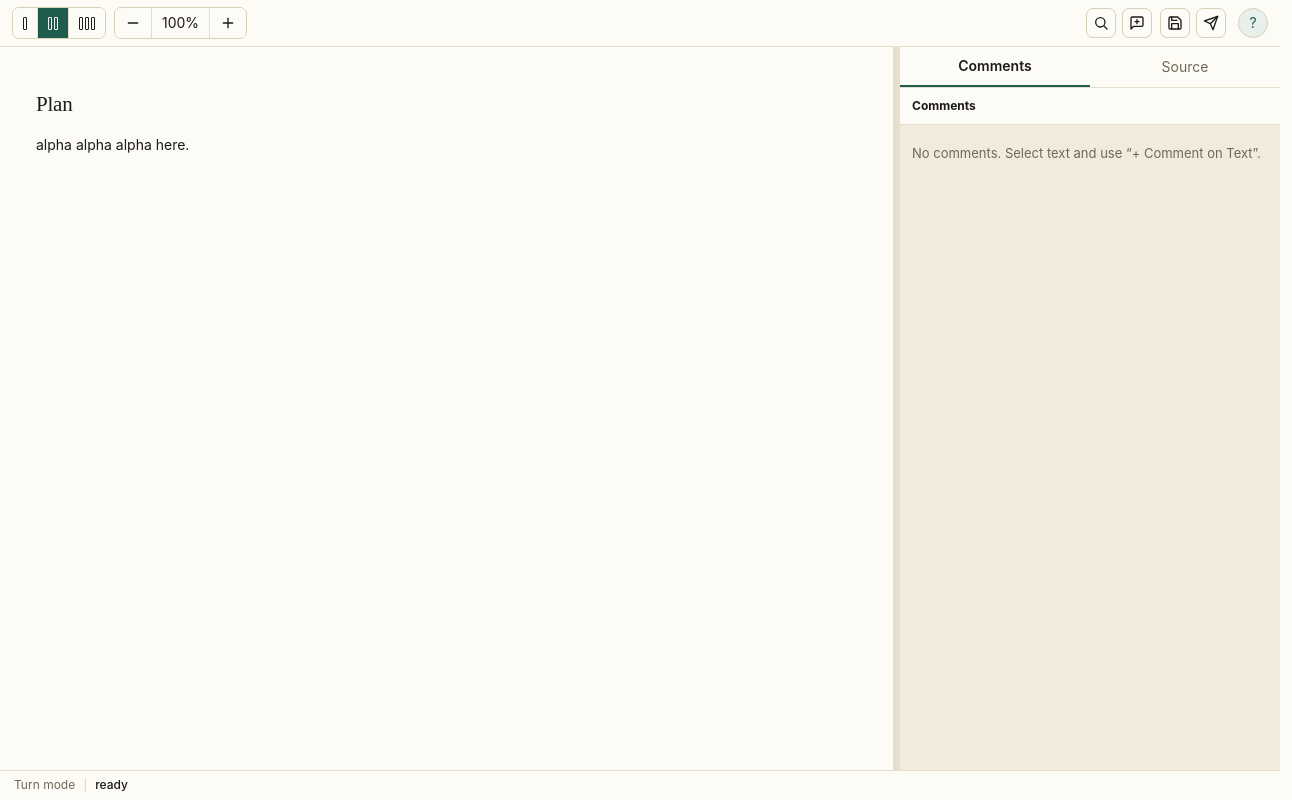
Test: find & replace bar › replace-next advances and rewrites a single match
This screenshot has width=1292, height=800.
Press f
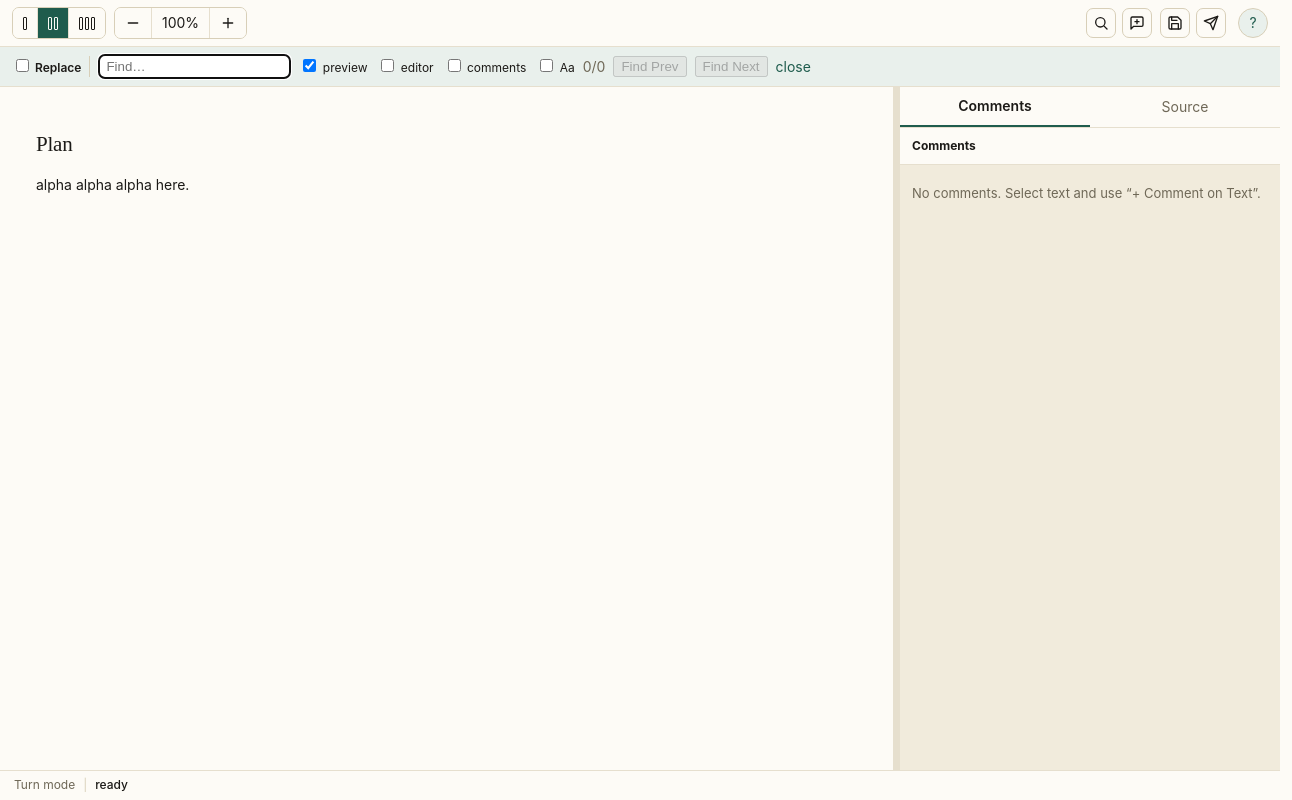
Type "alpha" into the field with placeholder "Find…".
click(195, 66); type("alpha")  # box [98,54,291,79]
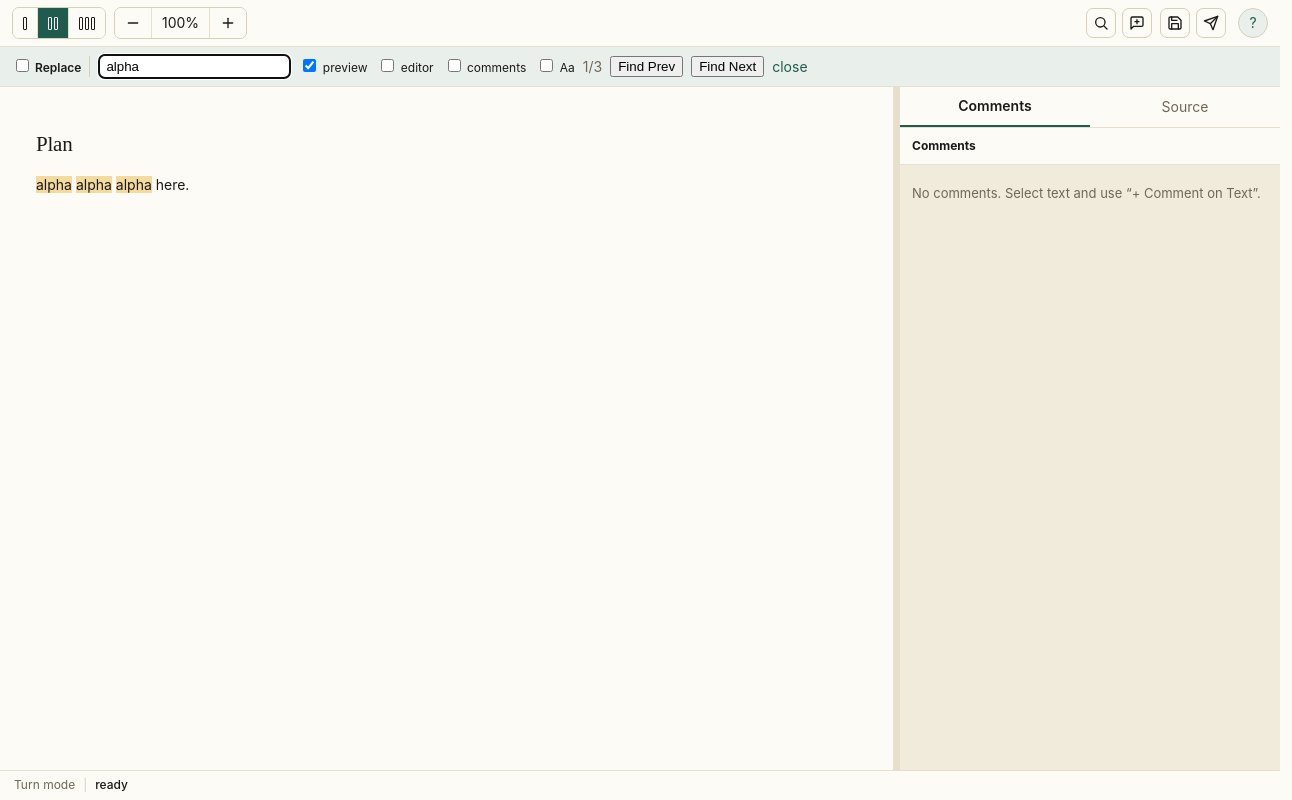
Click the checkbox labelled "Replace".
click(22, 65)  # box [16,59,29,72]
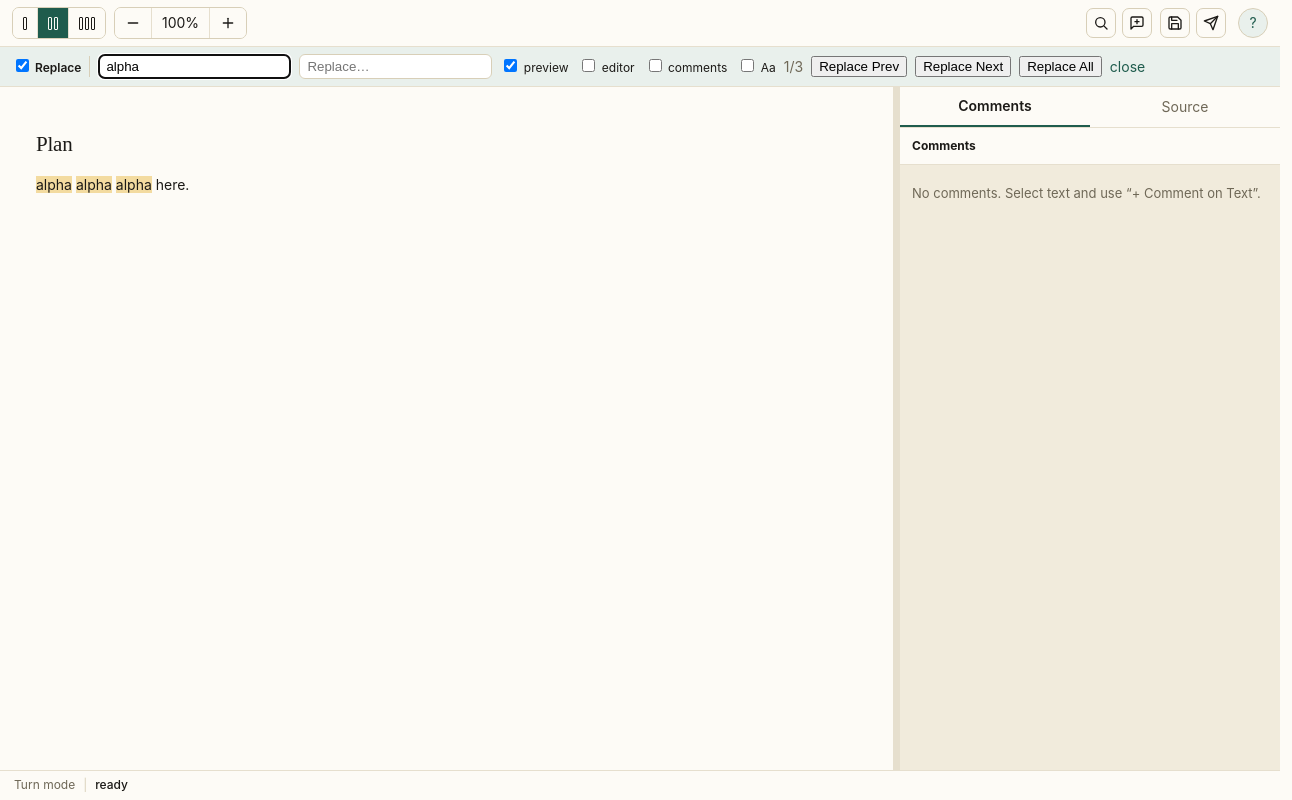
Type "X" into the field with placeholder "Replace…".
click(396, 66); type("X")  # box [299,54,492,79]
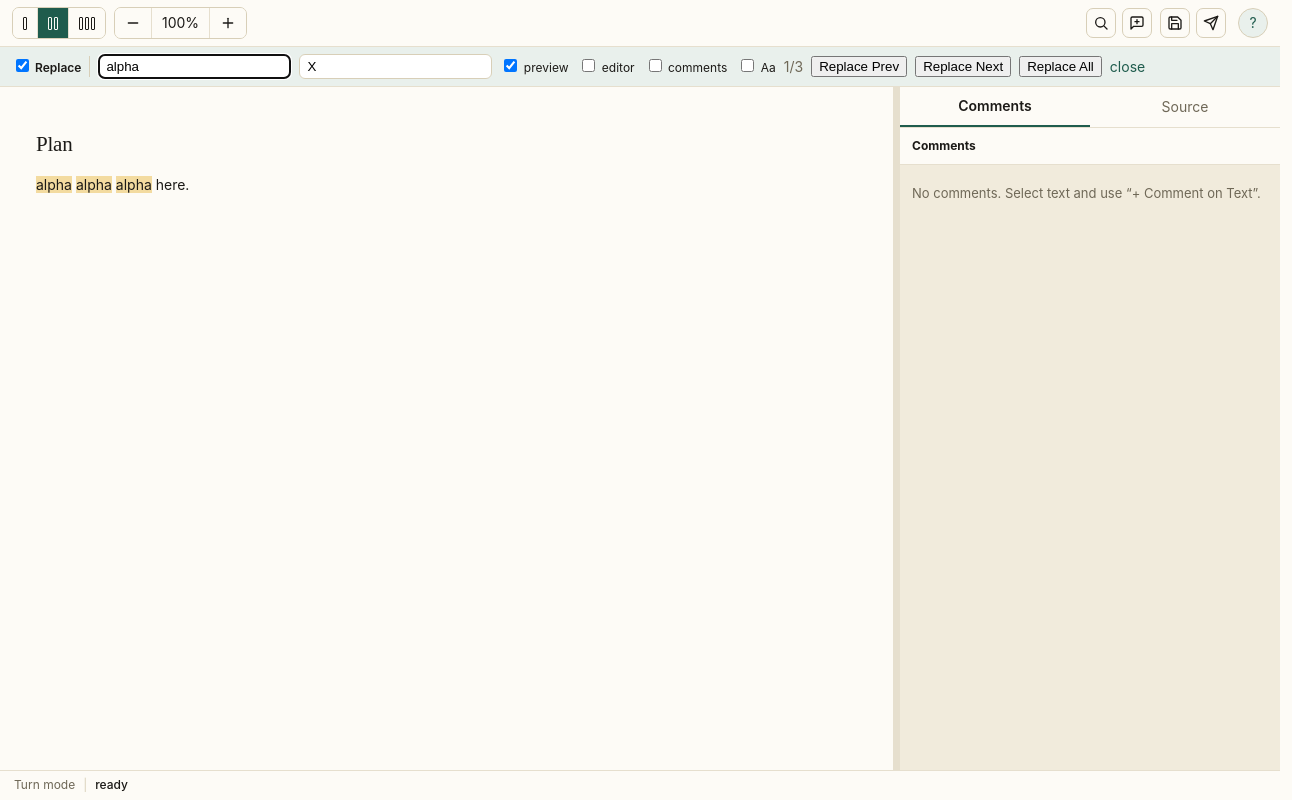
Click the button "Replace Next".
click(963, 66)  # box [915,56,1011,77]
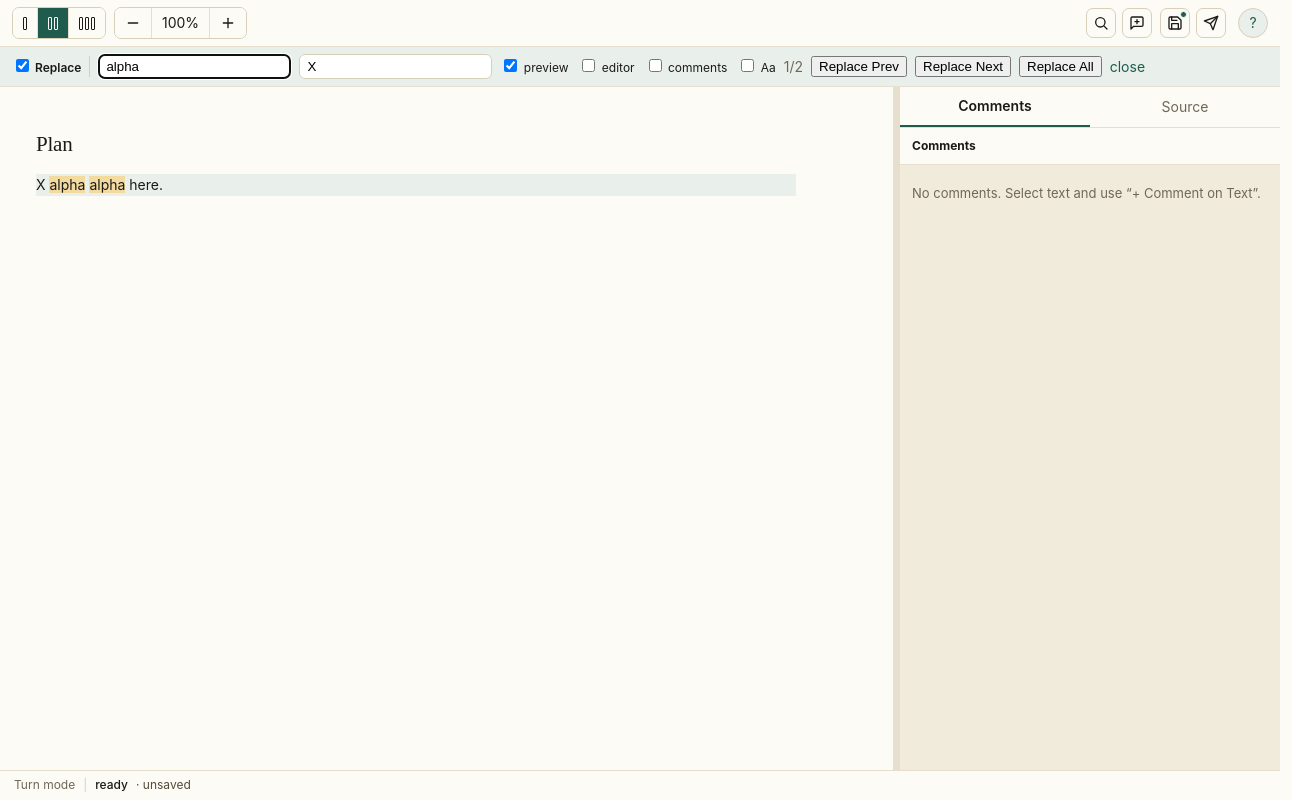
Result: the element with class "ap-rendered" shows "X" at [36,176,163,193]
